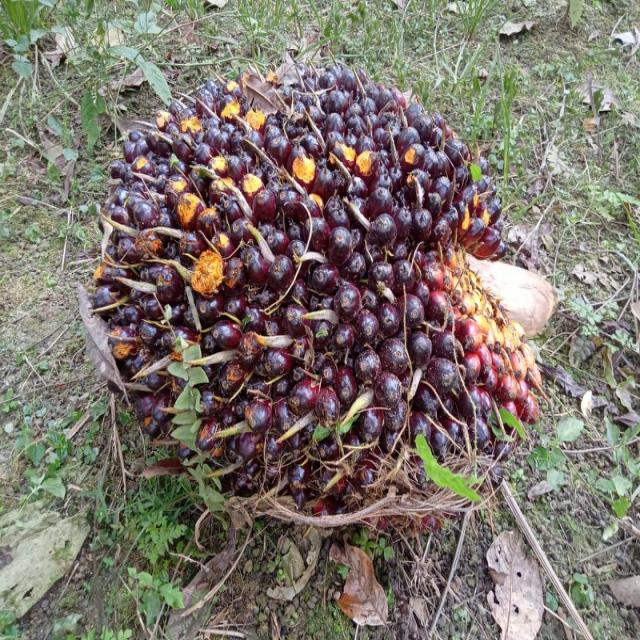fraksi 00: (96, 57, 549, 521)
